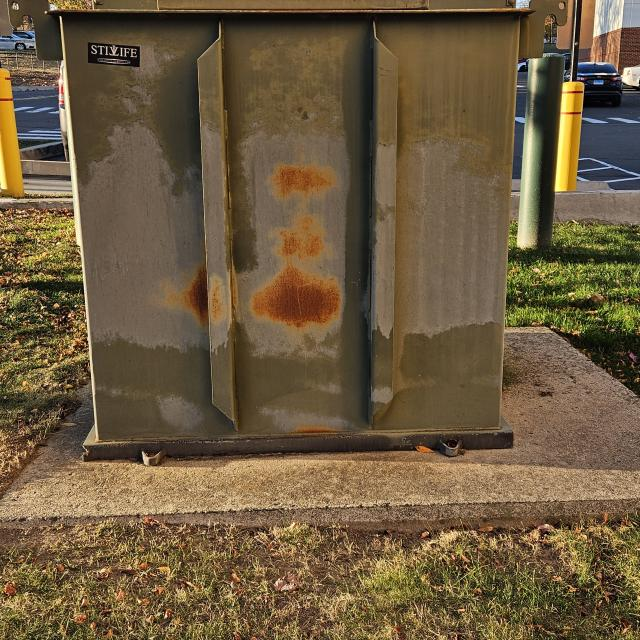Uniform Corrosion: (188, 159, 346, 346)
